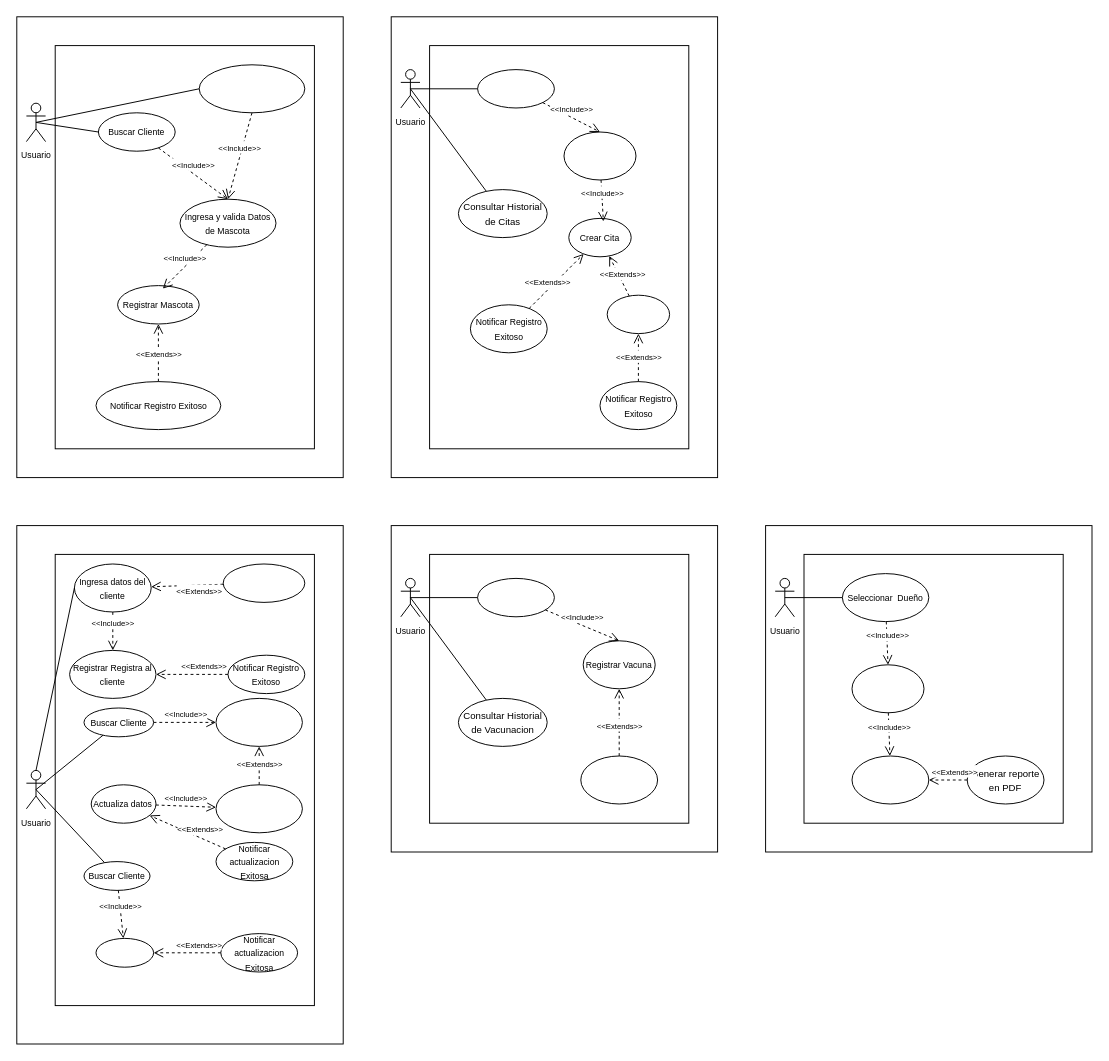
Image size: 1109x1061. Some labels were removed from this diagram. The shapes that lost their labels are listed below. From the top down, each one's centre as x and y in pixels, then its label:
pixel 251 88: Registrar Cliente (Solo si no existe)
pixel 515 88: Verifica Disponibilidad
pixel 599 155: Seleccionar Fecha de Cita
pixel 638 314: Cancelar Cita
pixel 263 582: Validar correo electronico
pixel 515 597: Buscar Mascota
pixel 887 688: Seleccionar las mascotas
pixel 258 721: Ingresa datos para actualizar cliente
pixel 619 779: Actualizar Estado de Vacunación
pixel 890 779: Seleccionar rango de fecha
pixel 258 808: Valida datos que sean correctos
pixel 124 952: Eliminar Cliente
